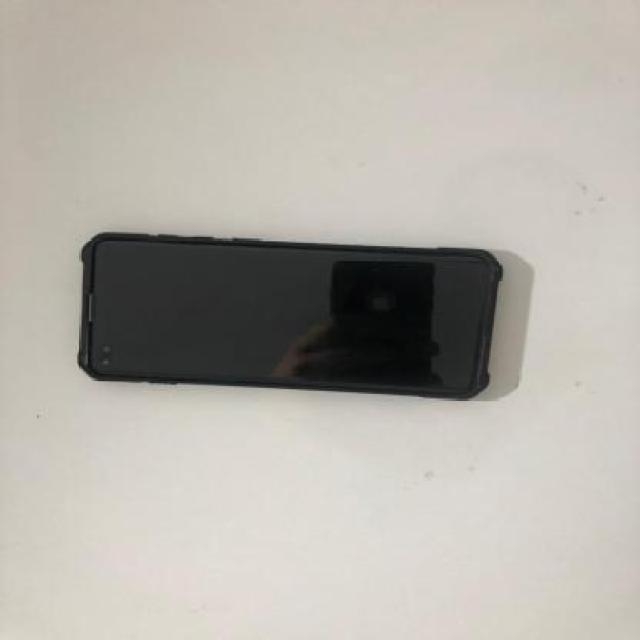mobile: (74, 230, 503, 402)
